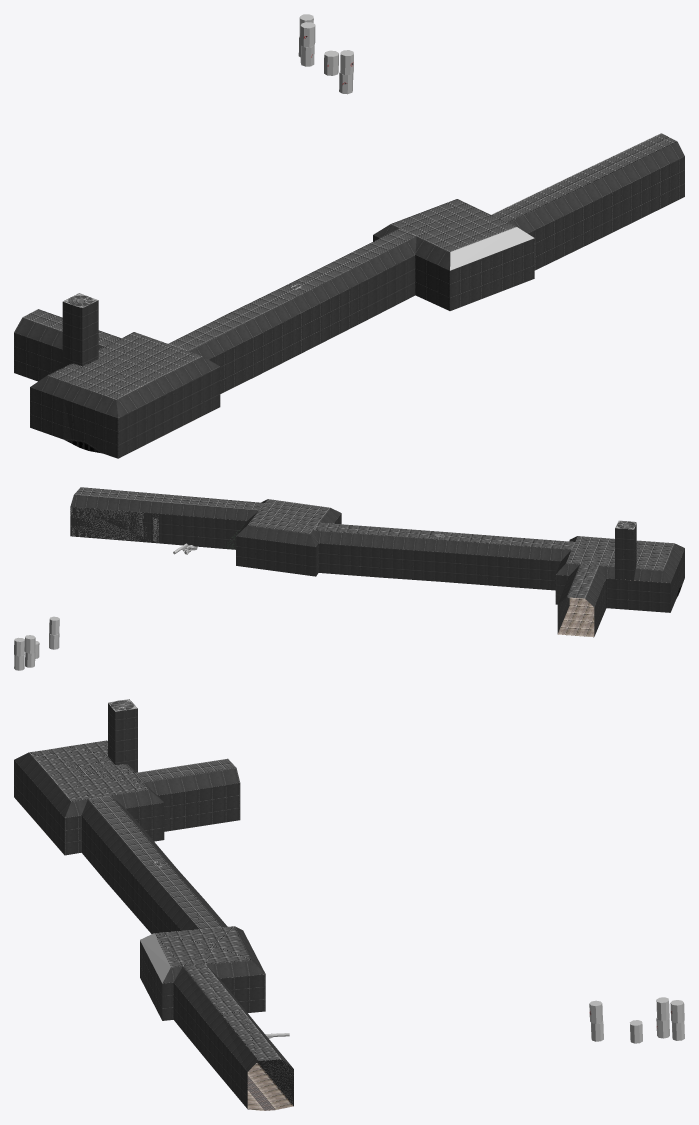
The model's file is dam18.obj.
The picture shows the model from 3 angles, top to bottom: view 1: azimuth 30°, elevation 25°; view 2: azimuth 150°, elevation 25°; view 3: azimuth 270°, elevation 25°; orthographic projection. The views are drawn at different scales.
Parts seen in each view (by area): view 1: 039_61410439_c.bmp, 000_61410439_c.bmp, 043_1BE3C87_c.bmp, 006_61410439_c.bmp, 004_1BE3C87_c.bmp, 009_1BE3C87_c.bmp, 061_3B6FB66_c.bmp; view 2: 000_61410439_c.bmp, 039_61410439_c.bmp, 006_61410439_c.bmp, 043_1BE3C87_c.bmp, 004_1BE3C87_c.bmp, 041_2667E92D_c.bmp, 009_1BE3C87_c.bmp, 040_61410439_c.bmp, 072_3B6FB66_c.bmp; view 3: 039_61410439_c.bmp, 000_61410439_c.bmp, 043_1BE3C87_c.bmp, 004_1BE3C87_c.bmp, 006_61410439_c.bmp, 009_1BE3C87_c.bmp, 002_2667E92D_c.bmp, 061_3B6FB66_c.bmp.
Part boxes in pixels (x1,y1,x2,y2): 039_61410439_c.bmp: [14, 294, 310, 458]; 000_61410439_c.bmp: [373, 141, 684, 310]; 043_1BE3C87_c.bmp: [23, 286, 302, 399]; 006_61410439_c.bmp: [303, 236, 416, 348]; 004_1BE3C87_c.bmp: [391, 133, 676, 251]; 009_1BE3C87_c.bmp: [284, 228, 415, 293]; 061_3B6FB66_c.bmp: [450, 227, 534, 270]; 000_61410439_c.bmp: [70, 494, 341, 576]; 039_61410439_c.bmp: [440, 523, 684, 636]; 006_61410439_c.bmp: [313, 530, 442, 581]; 043_1BE3C87_c.bmp: [442, 532, 674, 598]; 004_1BE3C87_c.bmp: [74, 487, 329, 533]; 041_2667E92D_c.bmp: [557, 579, 639, 637]; 009_1BE3C87_c.bmp: [313, 522, 446, 539]; 040_61410439_c.bmp: [615, 528, 633, 580]; 072_3B6FB66_c.bmp: [70, 507, 158, 542]; 039_61410439_c.bmp: [14, 703, 240, 912]; 000_61410439_c.bmp: [140, 926, 293, 1108]; 043_1BE3C87_c.bmp: [29, 740, 236, 863]; 004_1BE3C87_c.bmp: [154, 926, 281, 1060]; 006_61410439_c.bmp: [133, 861, 227, 933]; 009_1BE3C87_c.bmp: [144, 861, 221, 929]; 002_2667E92D_c.bmp: [247, 1062, 293, 1110]; 061_3B6FB66_c.bmp: [140, 933, 170, 983].
Size of the model in its own units: 0.7071 by 0.1099 by 0.6116.
